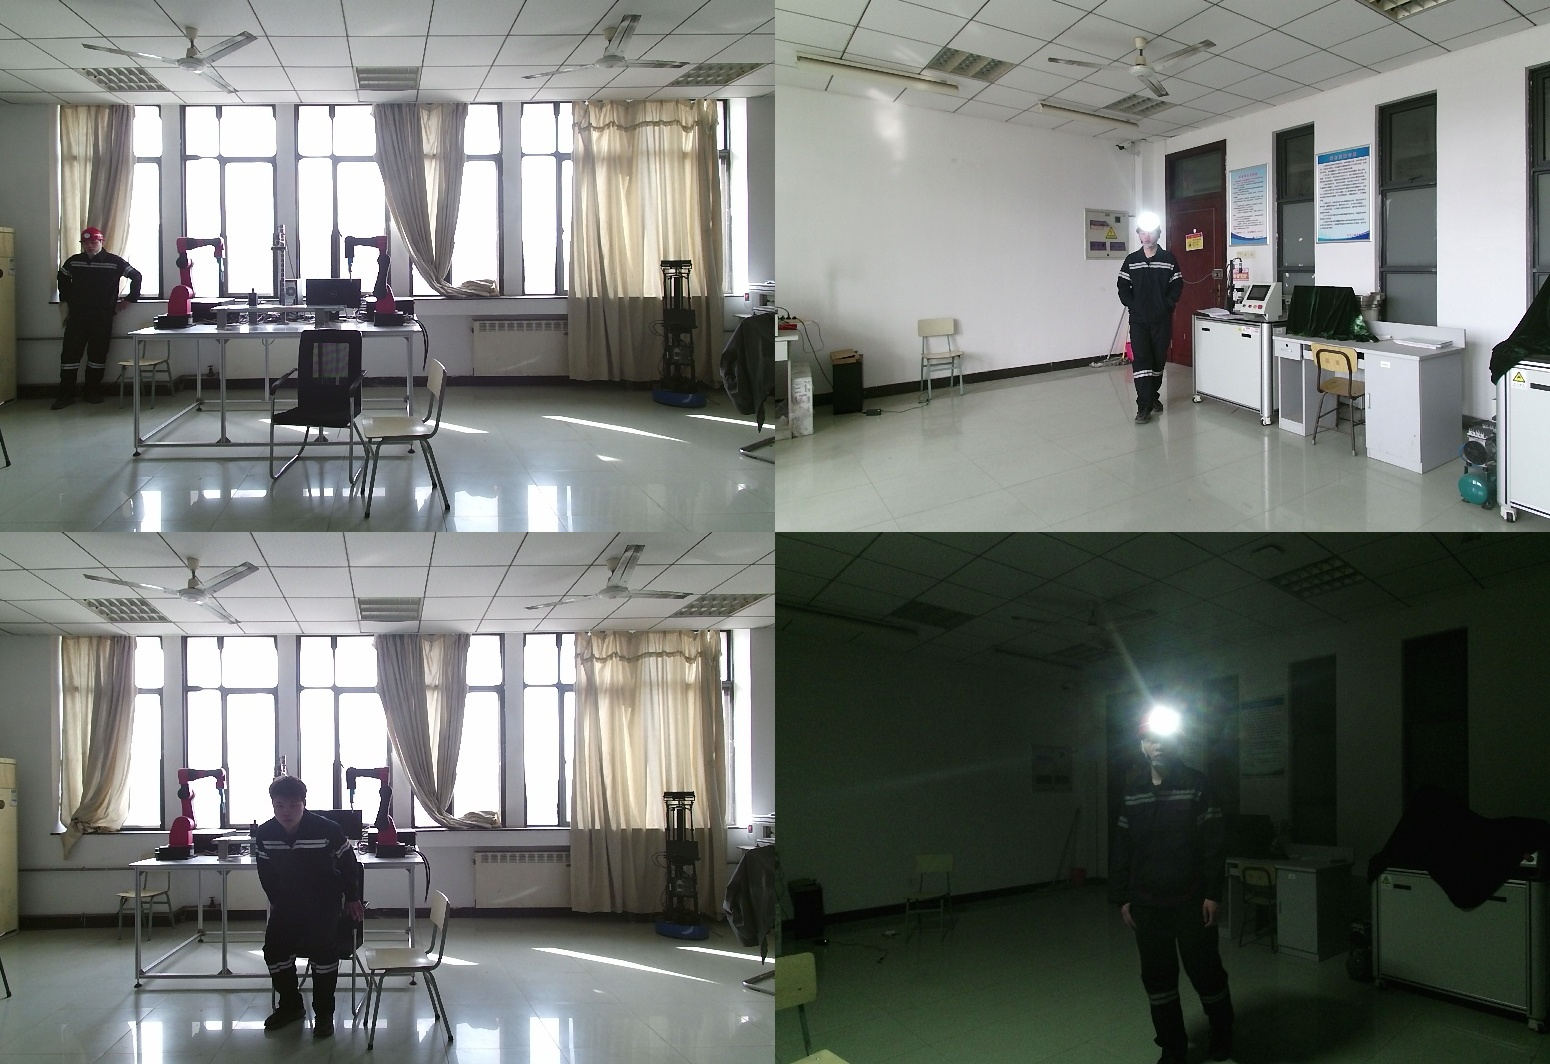person: (1116, 707, 1246, 1064), (250, 780, 367, 1036), (53, 226, 142, 404), (1114, 221, 1189, 429)
